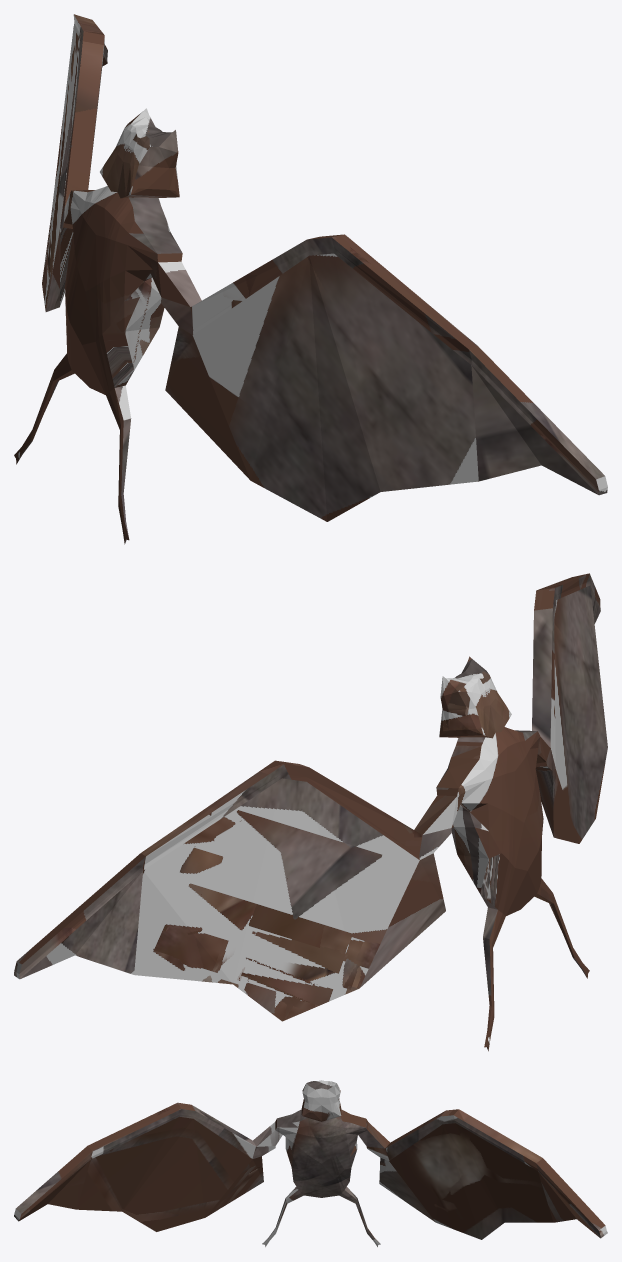
File: Enemigo124.obj
The picture shows the model from 3 angles, top to bottom: view 1: azimuth 30°, elevation 25°; view 2: azimuth 150°, elevation 25°; view 3: azimuth 270°, elevation 25°; orthographic projection. The views are drawn at different scales.
Visible parts, largest first — view 1: Plano; view 2: Plano; view 3: Plano.
Boxes of the visible parts, x1,y1,x2,y2 form: Plano: [14, 14, 607, 544]; Plano: [14, 573, 607, 1051]; Plano: [14, 1080, 607, 1246].
Bounding box in the file's own units: 0.6519 × 0.7353 × 2.11.
Materials: 1 (1 with a texture image).
